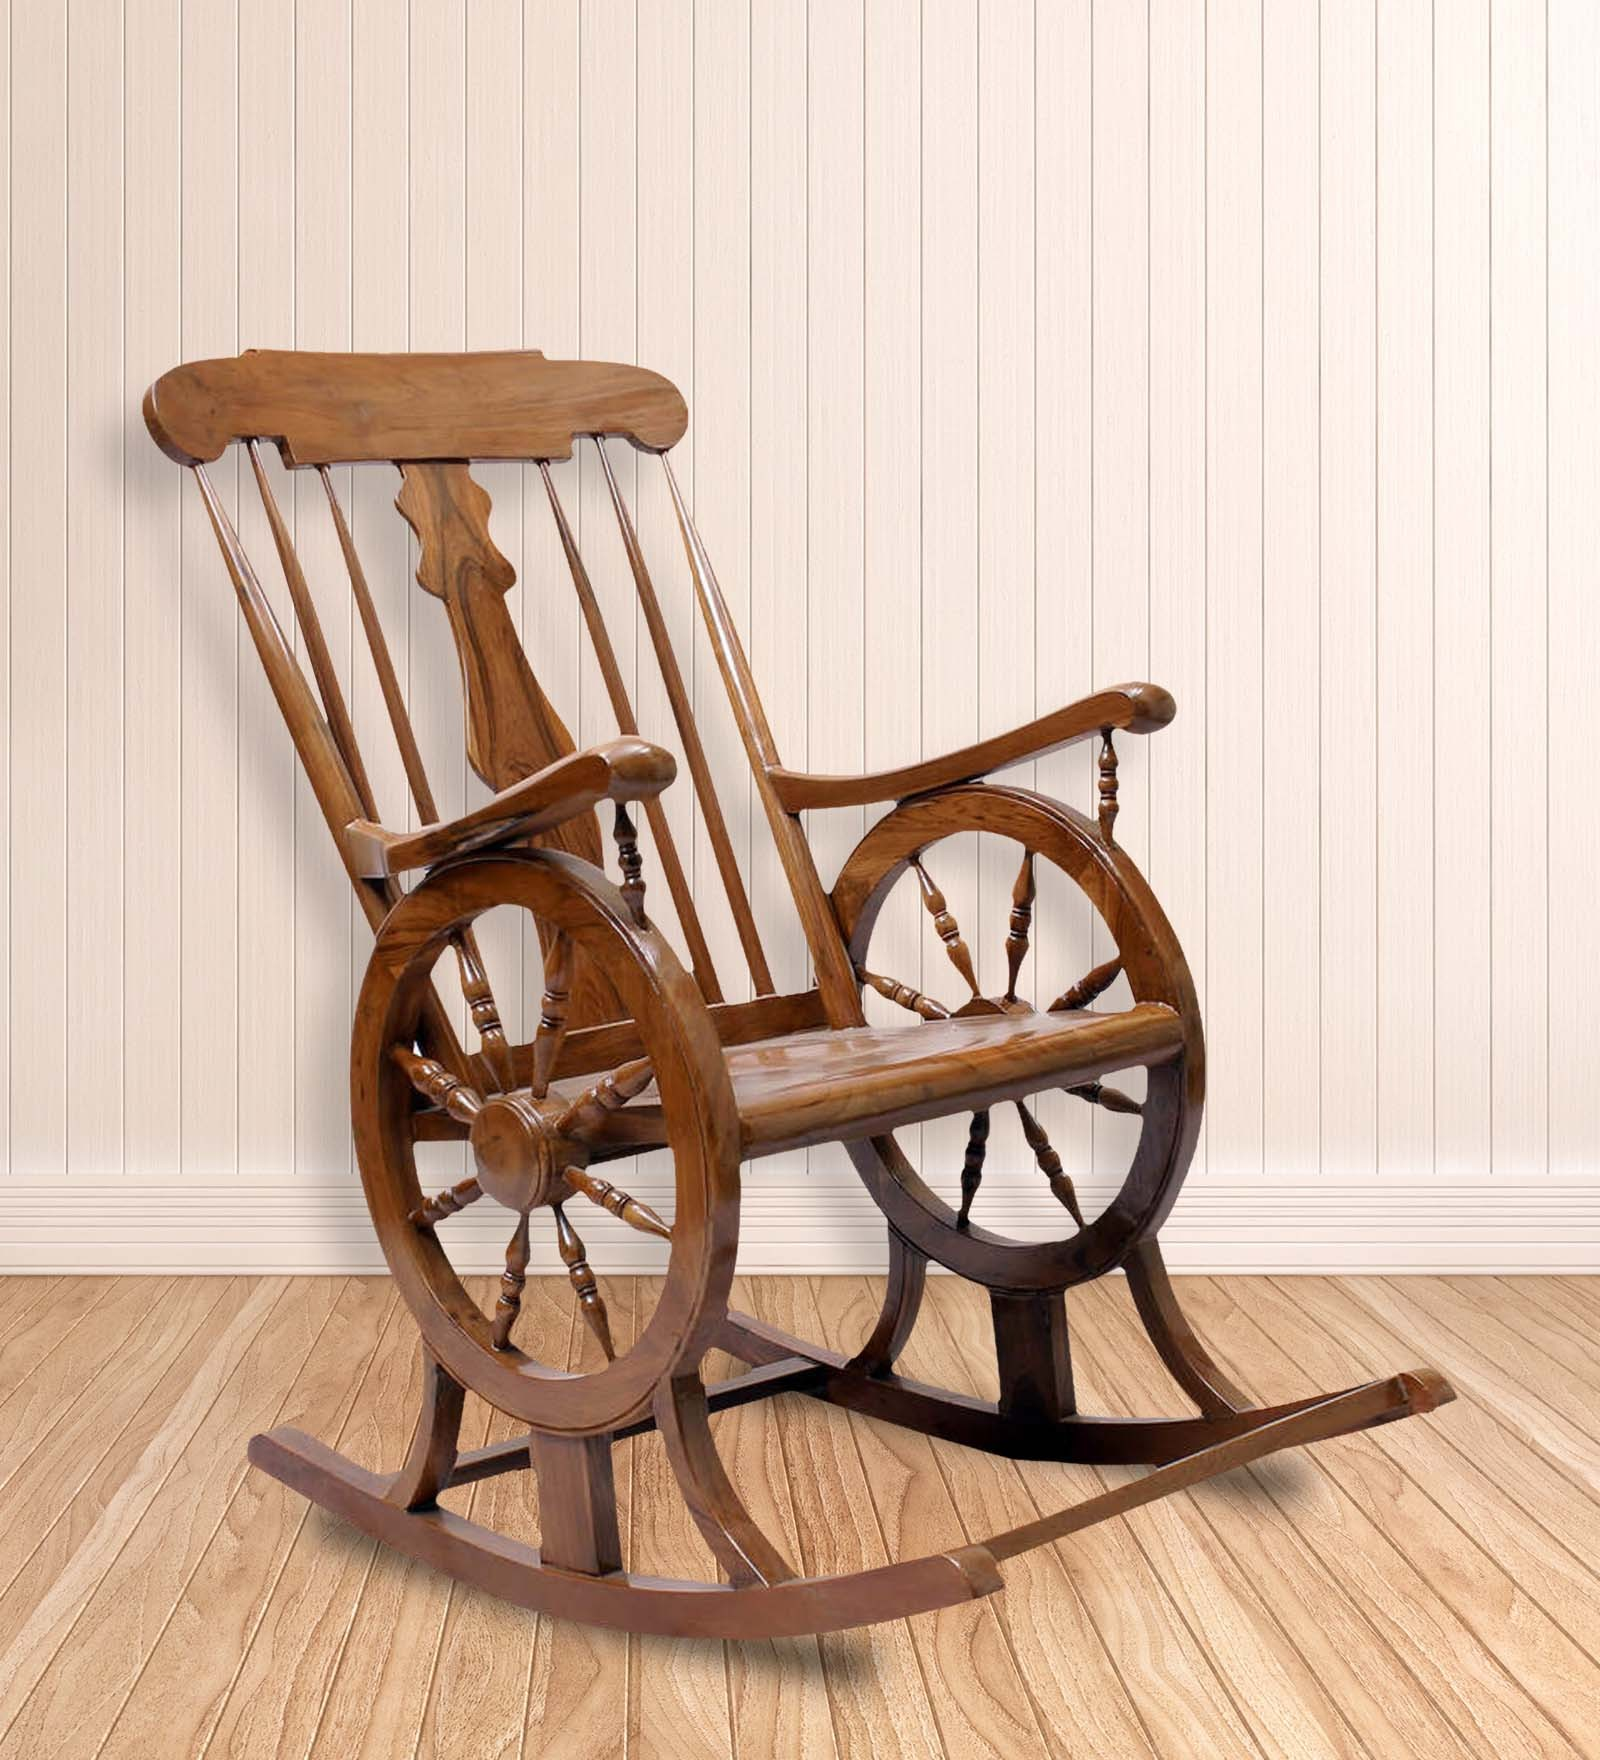Chelmsford Teak Wood Rocking Chair in Composite Teak Finish by Finesse: (116, 293, 1500, 1682)
